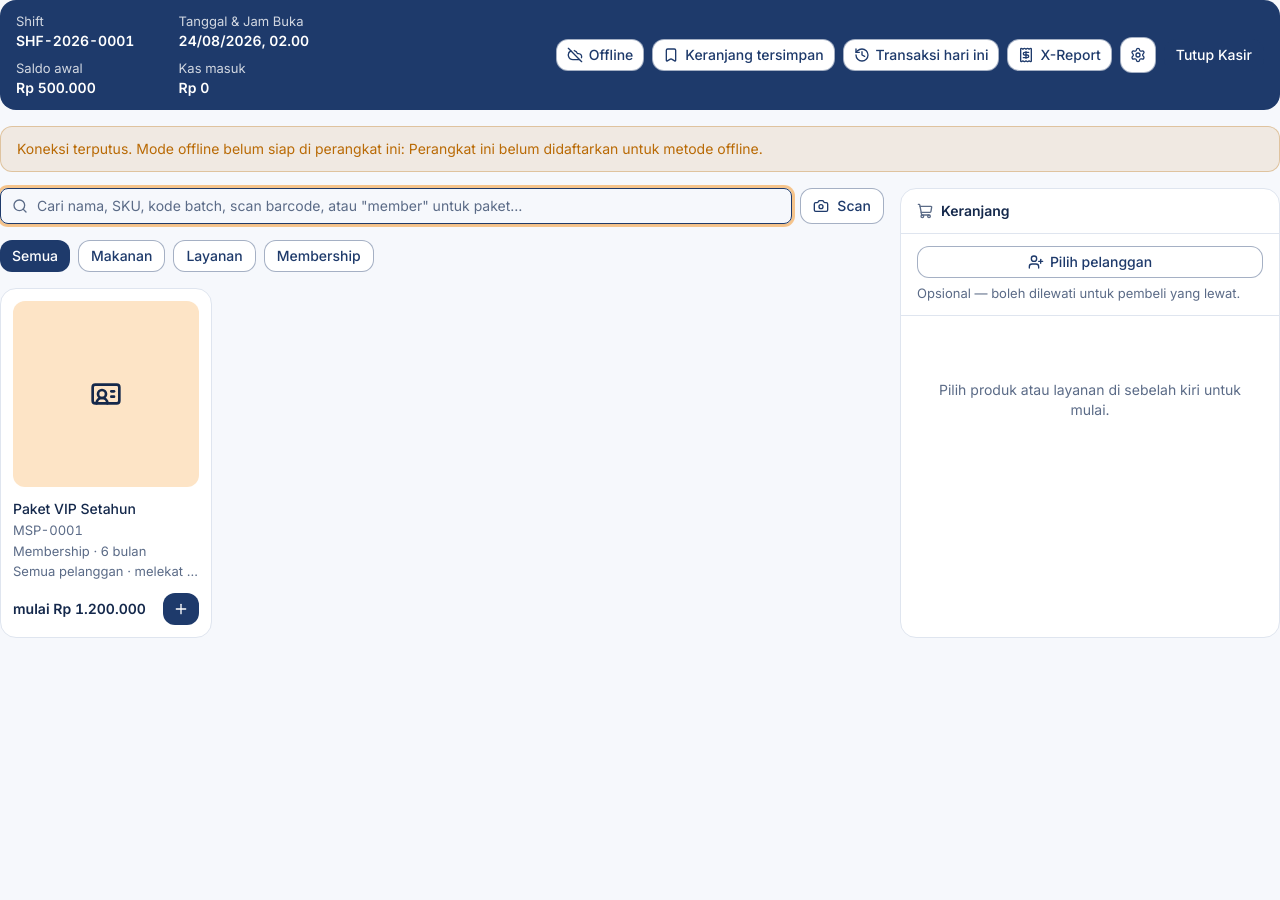
Test case: adding it › shows a 409 refusal's reasons in the dialog, which stays open
Click the button "Pilih pelanggan": (1090, 262) [917,246,1263,278]
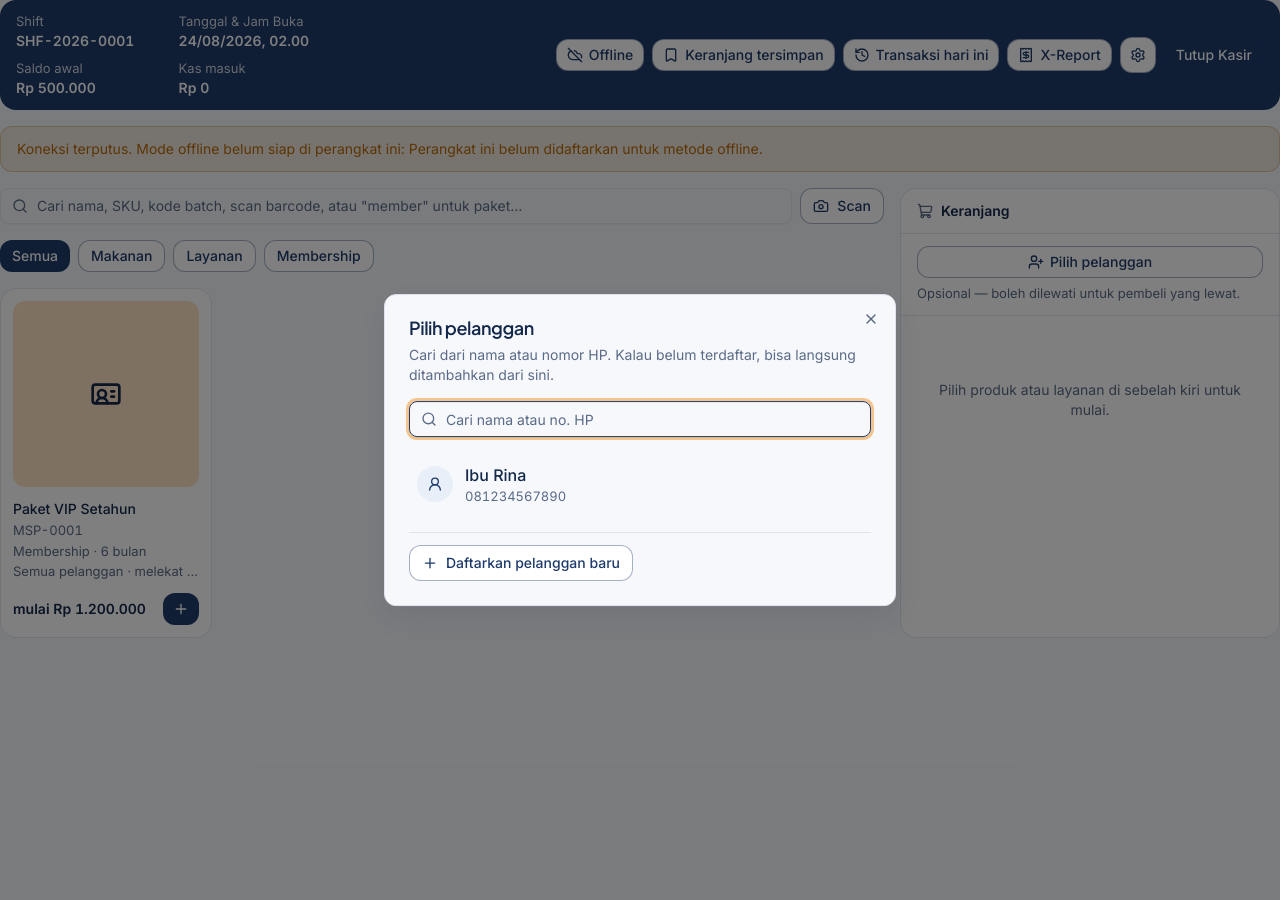
Click the text "Ibu Rina": (496, 475) [465,465,526,485]
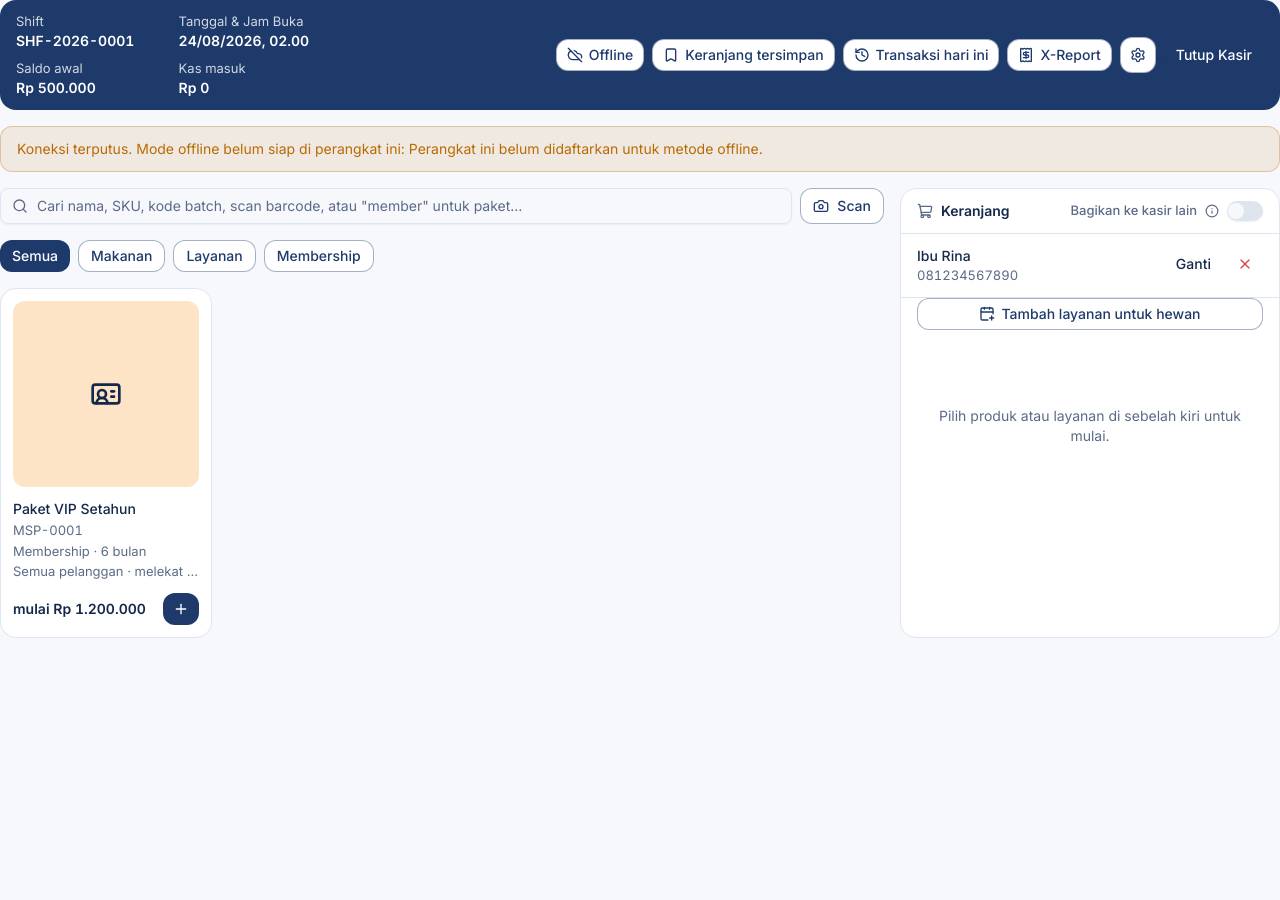
Click the button named "tambah paket vip setahun": (181, 609) [163,593,199,625]
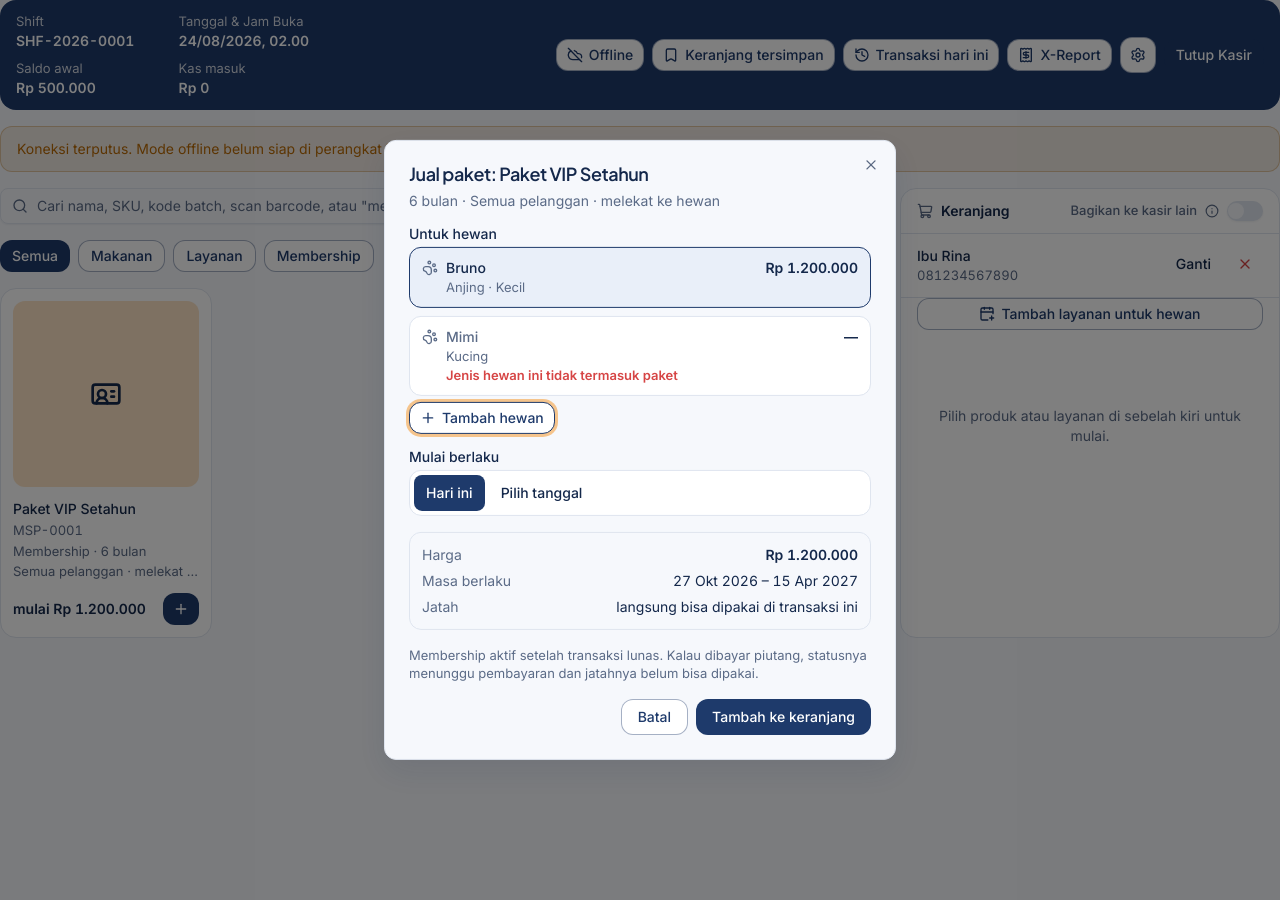
Expected: the heading "Jual paket: Paket VIP Setahun" is shown, [409,162,648,185]
Expected: the button "Tambah ke keranjang" is enabled
Click the button "Tambah ke keranjang": (784, 717) [696,699,871,735]
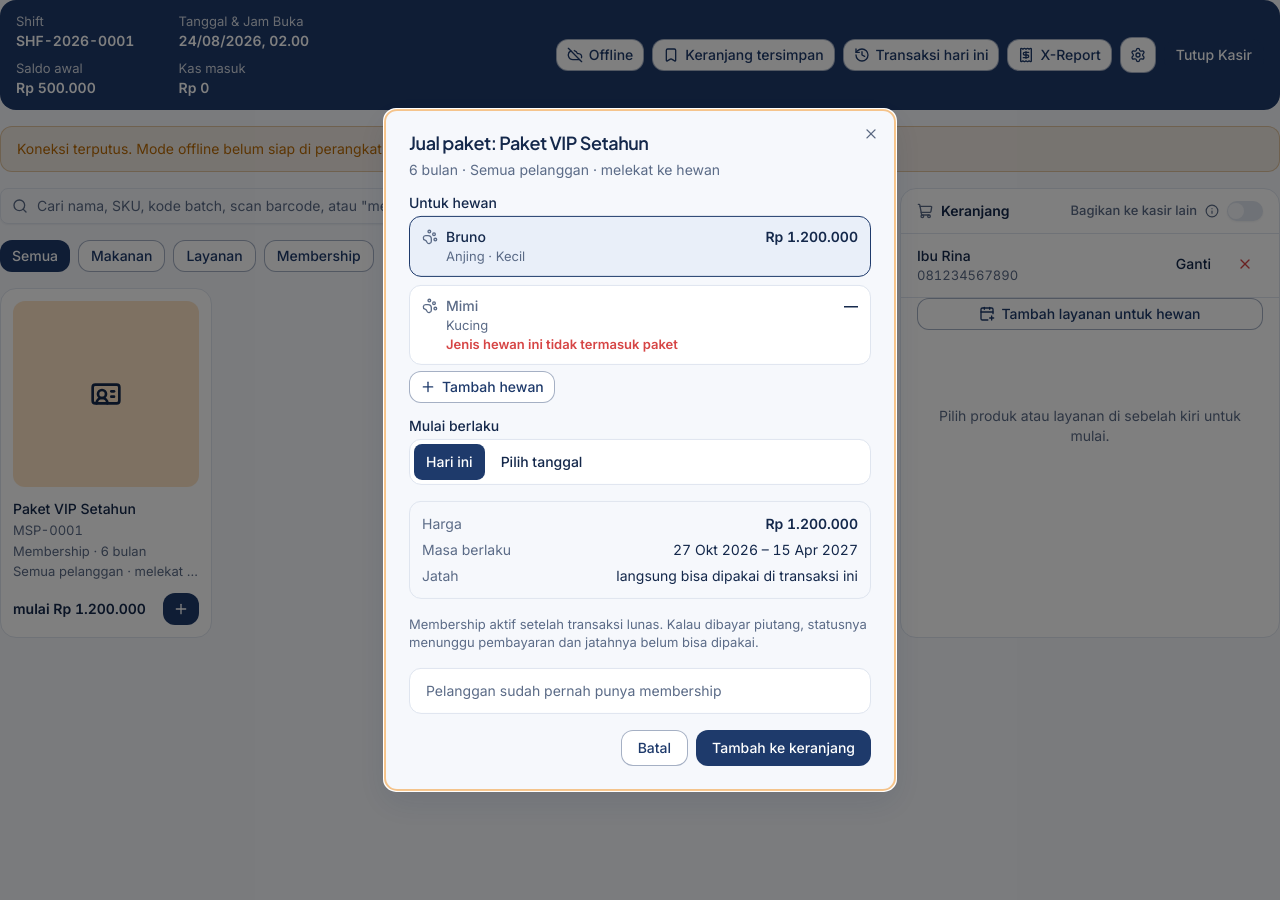
Expected: the dialog is shown, [384,109,896,791]
Expected: the text "Pelanggan sudah pernah punya membership" is shown, [426,682,722,699]
